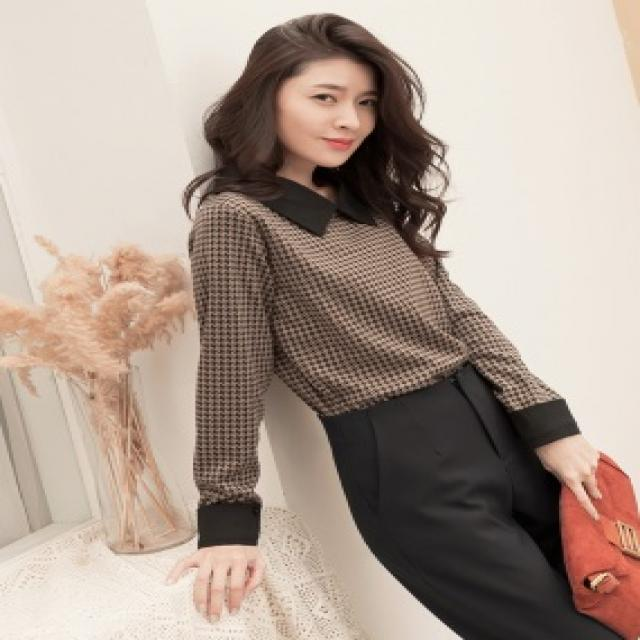plaid: (158, 187, 527, 411)
